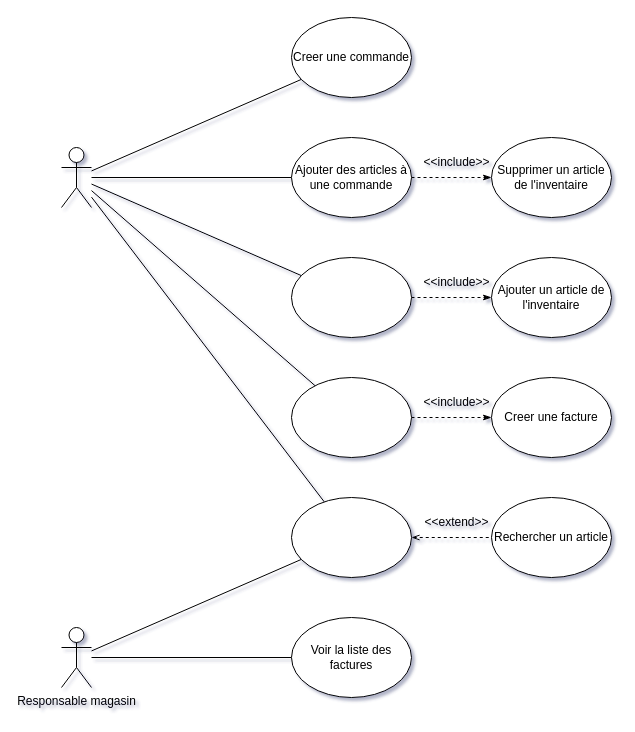
Image size: 635x732. Some labels were removed from this diagram. The centre of each missing label's shape, as x and y in pixels:
"Caissier" goes at pixel 76 177.
"Supprimer des articles à une commande" goes at pixel 351 297.
"Valider la commande" goes at pixel 351 417.
"Voir la liste des articles" goes at pixel 351 537.
